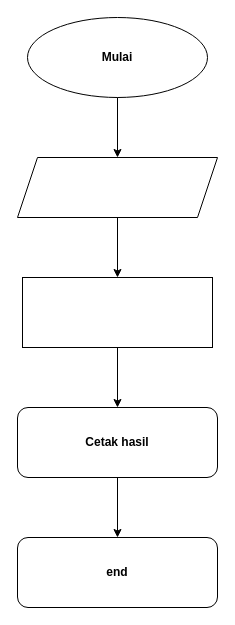
The diagram is 235 pixels wide and 625 high, and some of its shapes have lost their labels. The box of each missing label's shape, as (x1, y1, x2, y2) in pixels:
Memasukan dua bilangan a dan b: (16, 156, 218, 218)
Menjumlahkan kedua bi;angan =a+b: (22, 276, 212, 348)
